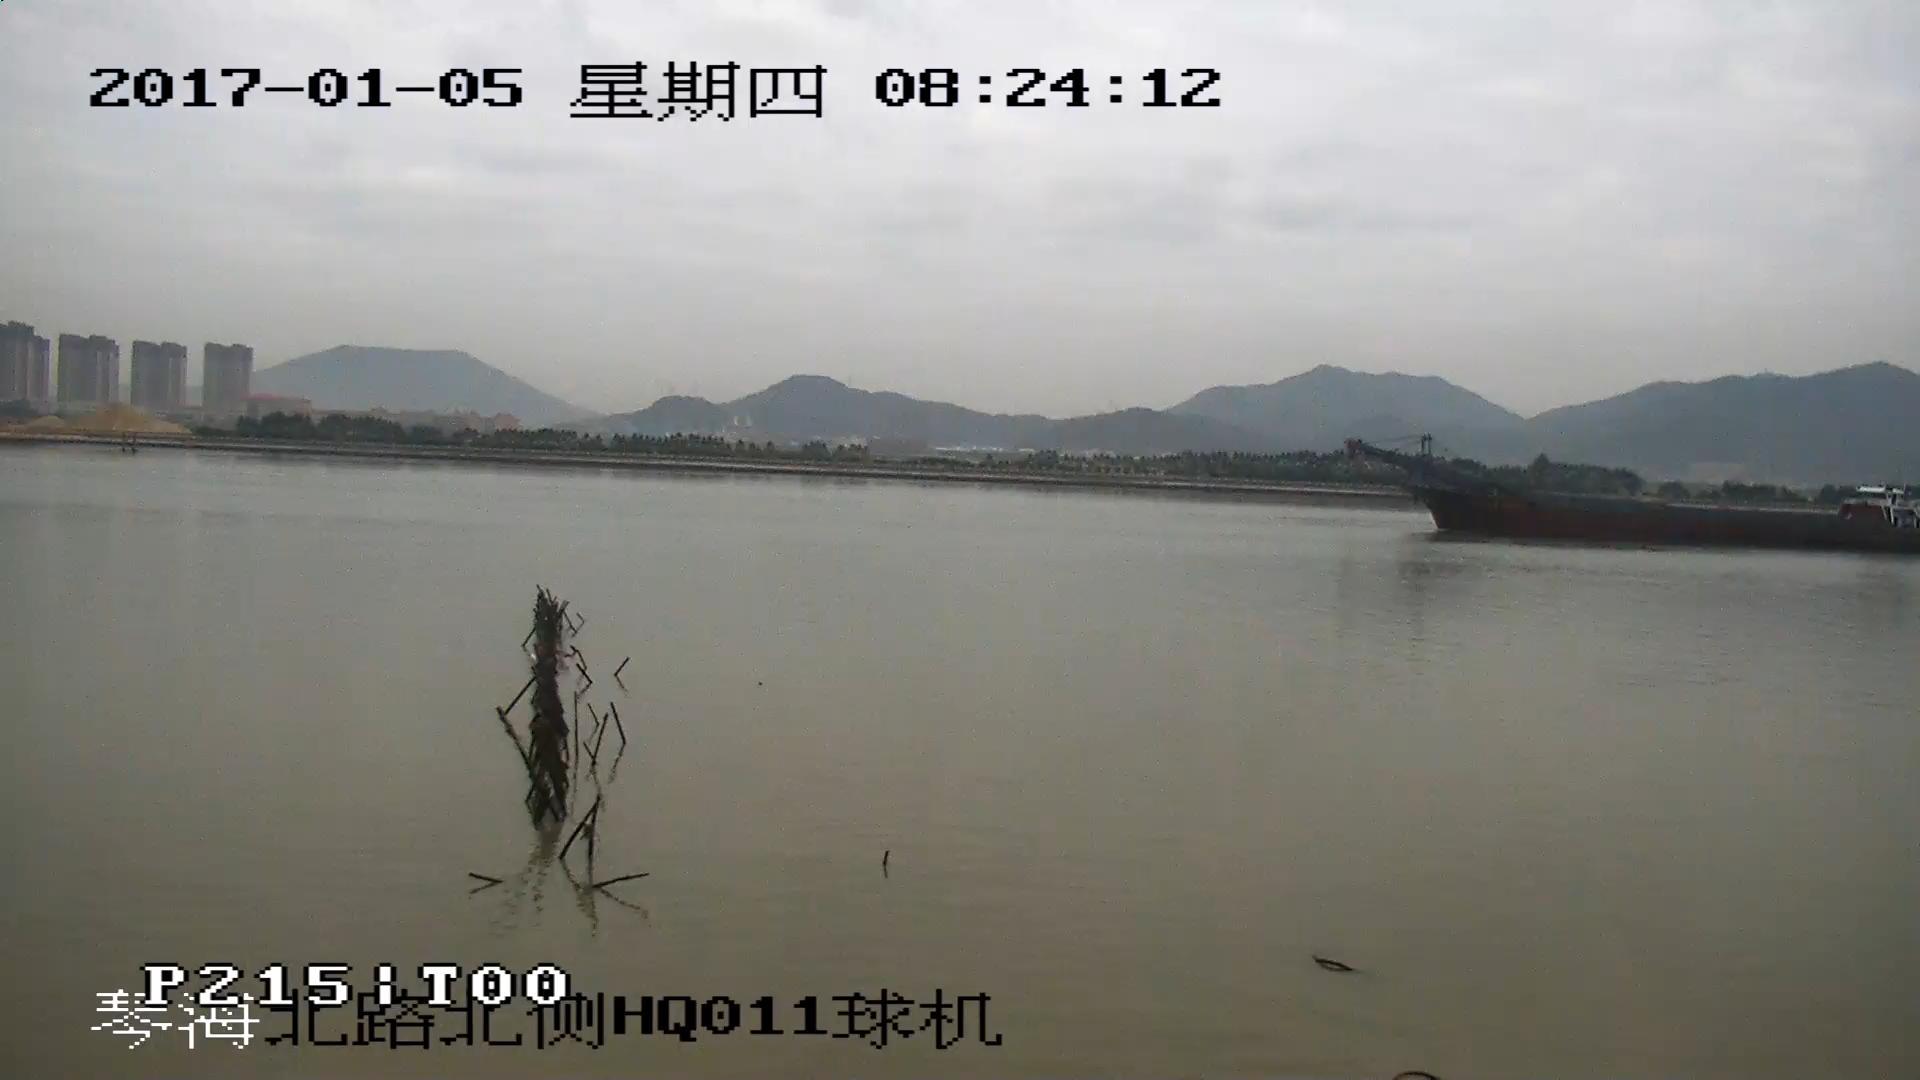bulk cargo carrier: (1344, 438, 1920, 548)
